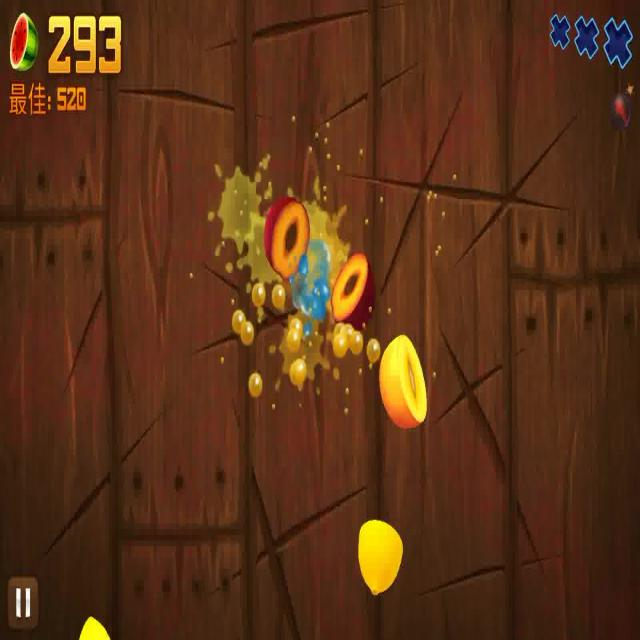fruit: (378, 332, 434, 436), (357, 504, 407, 601), (266, 191, 307, 285), (330, 244, 374, 331), (78, 606, 114, 640)
